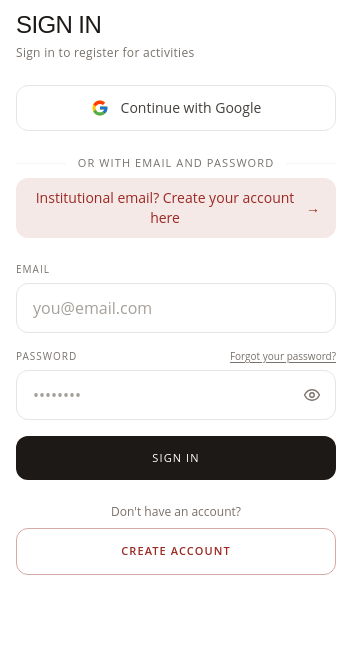
it: AuthPage — idiomas › los errores también salen traducidos (credenciales incorrectas, en inglés)
Type "ana@ull.edu.es" into the field with placeholder "you@email.com" at (176, 308), box [16, 282, 336, 332]
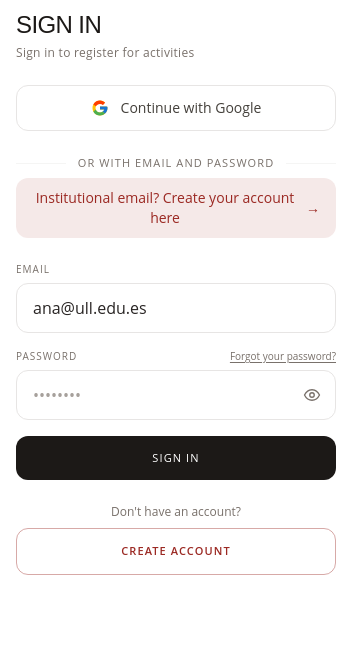
Type "una-contraseña" into the password field with placeholder "••••••••" at (176, 394), box [16, 370, 336, 420]
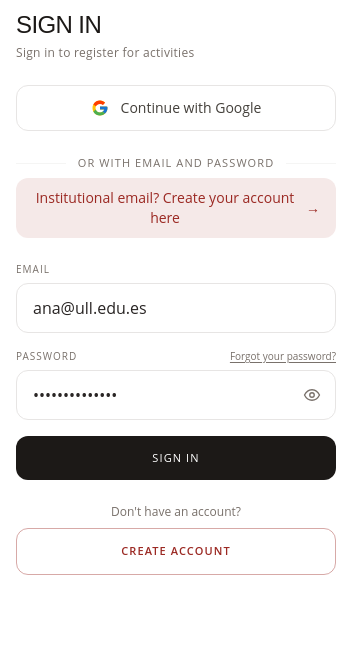
Click the button "Sign in" at (176, 458), box [16, 436, 336, 480]
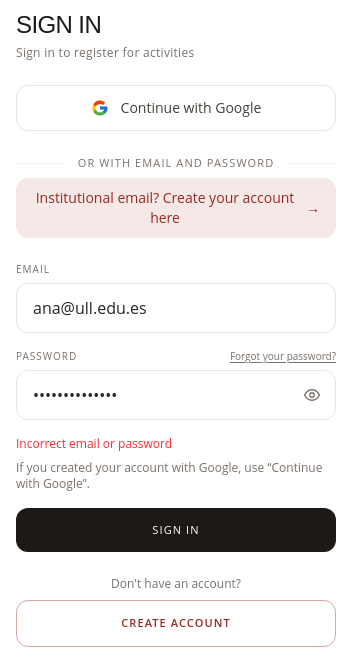
Check: the text "Incorrect email or password" is shown, box [16, 434, 172, 452]
